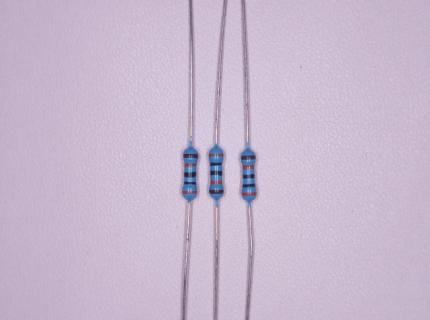Black band: (184, 172, 196, 178), (242, 183, 256, 188), (210, 171, 223, 176), (242, 174, 255, 179), (184, 181, 197, 185), (210, 162, 222, 166)
Brown band: (209, 189, 225, 194), (240, 155, 256, 160), (183, 154, 198, 158)
Orange band: (209, 180, 222, 185), (184, 163, 197, 168), (242, 165, 254, 170), (242, 192, 257, 196), (209, 153, 224, 157), (182, 191, 197, 194)
